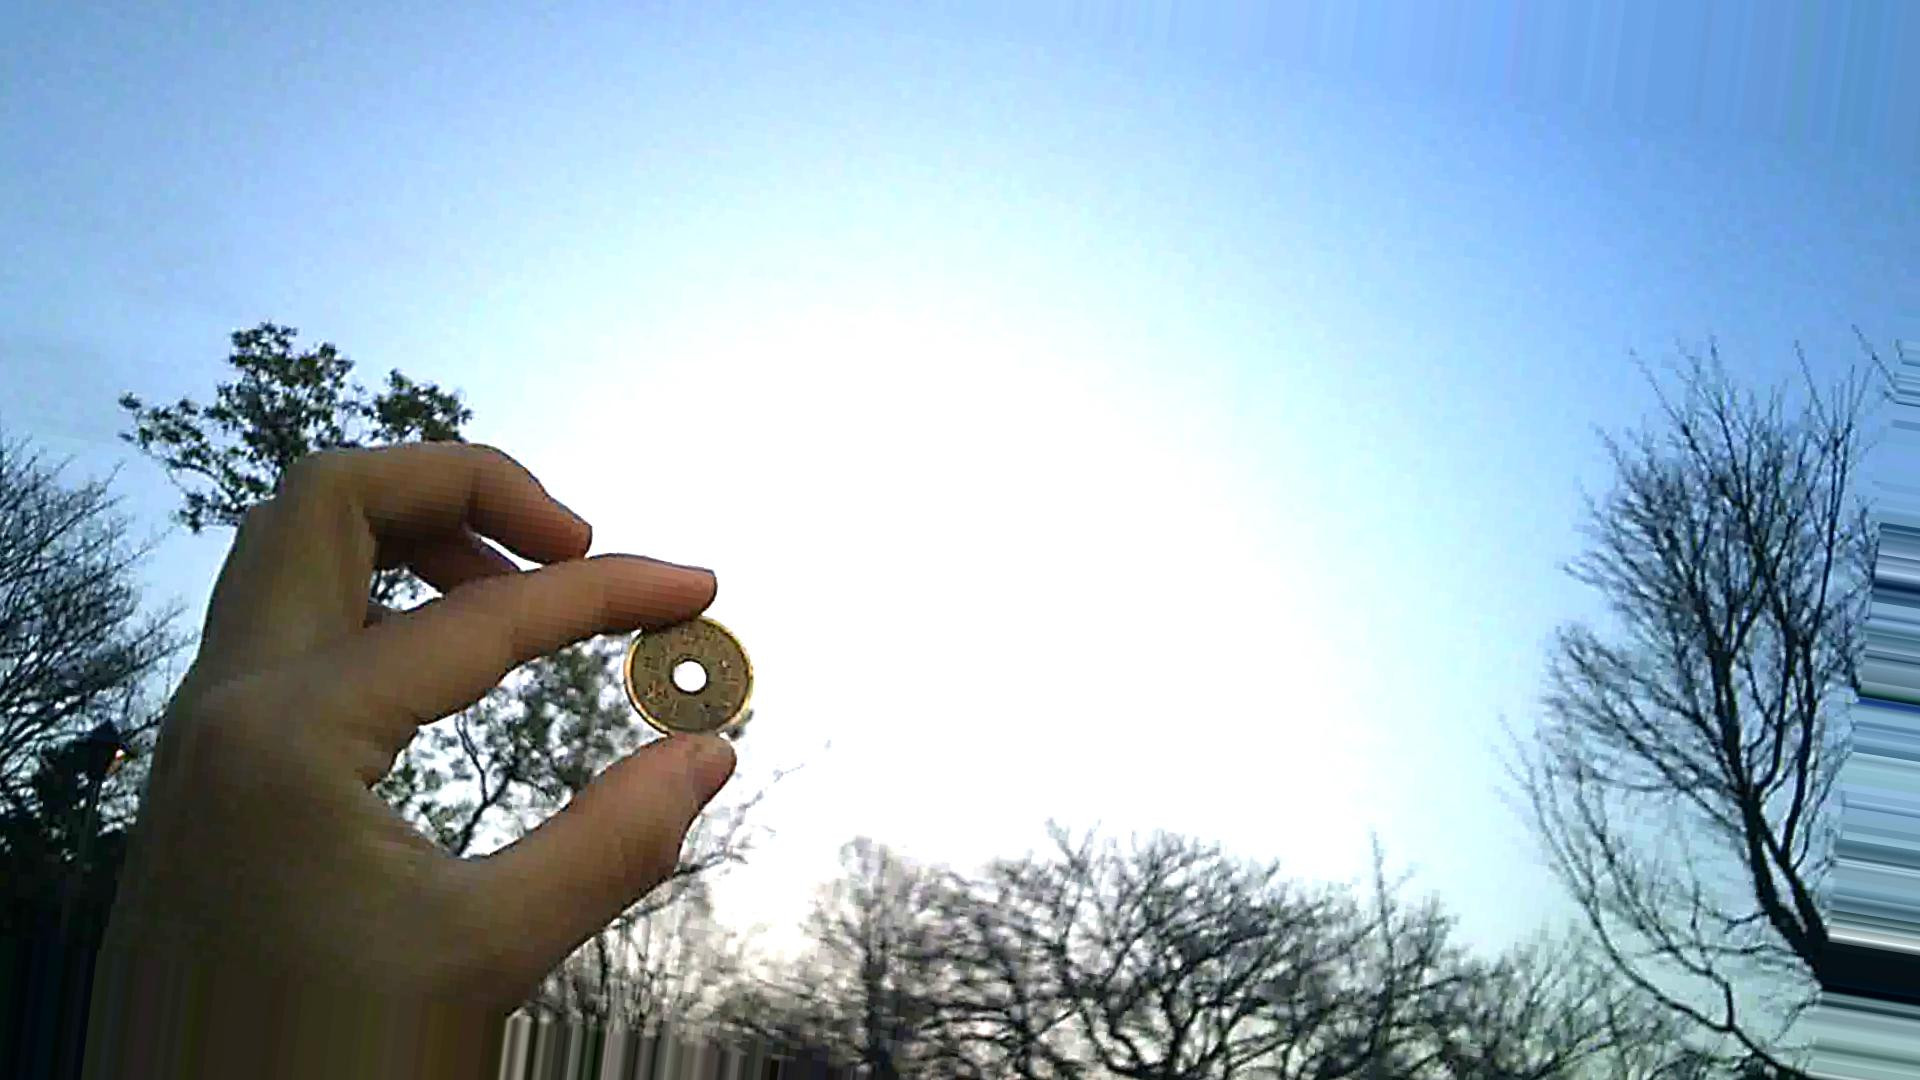5 Yen: (616, 601, 766, 748)
